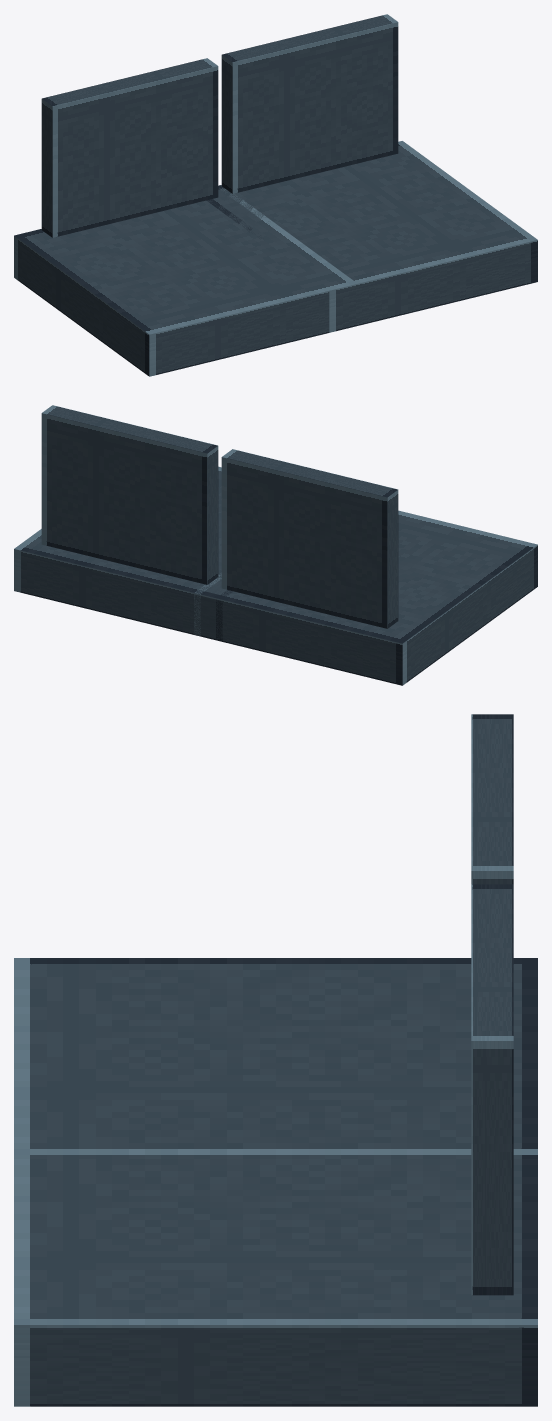
Rendered from workpiece_xuantie_boots_quenched.obj.
3 views of the same model, one above another, from view 1: azimuth 30°, elevation 25°; view 2: azimuth 150°, elevation 25°; view 3: azimuth 270°, elevation 25° (orthographic). The views are drawn at different scales.
Parts seen in each view (by area): view 1: geometry; view 2: geometry; view 3: geometry.
Part boxes in pixels (bbox=[...]): geometry: bbox=[14, 14, 537, 376]; geometry: bbox=[14, 405, 537, 685]; geometry: bbox=[14, 714, 537, 1406].
Size of the model in its own units: 0.5125 by 0.225 by 0.3094.
